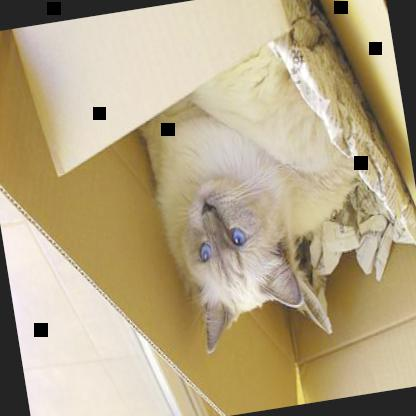cat: (132, 31, 382, 360)
